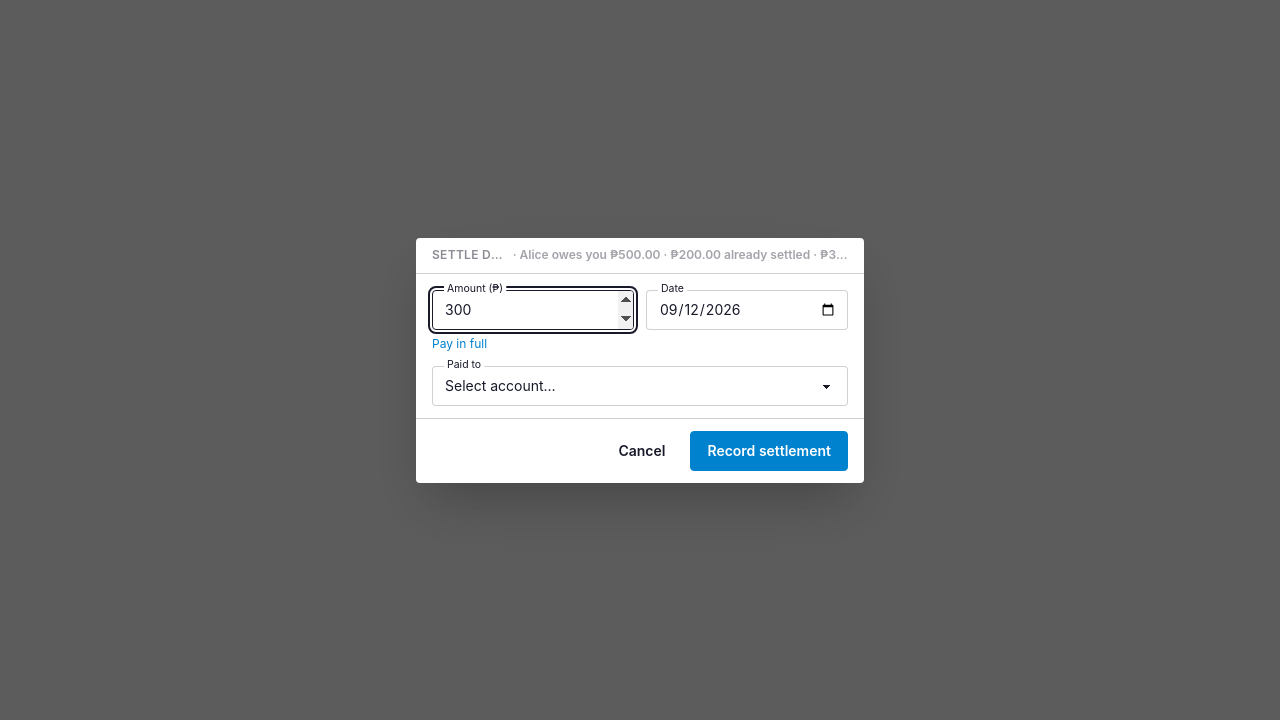
Scenario: SettleModal › 'Pay in full' fills the remaining amount
// Clear first, then click Pay in full to verify it refills.
Replace the text in the number field labelled "Amount (₱)" with "0" at (533, 310), box [432, 290, 634, 330]
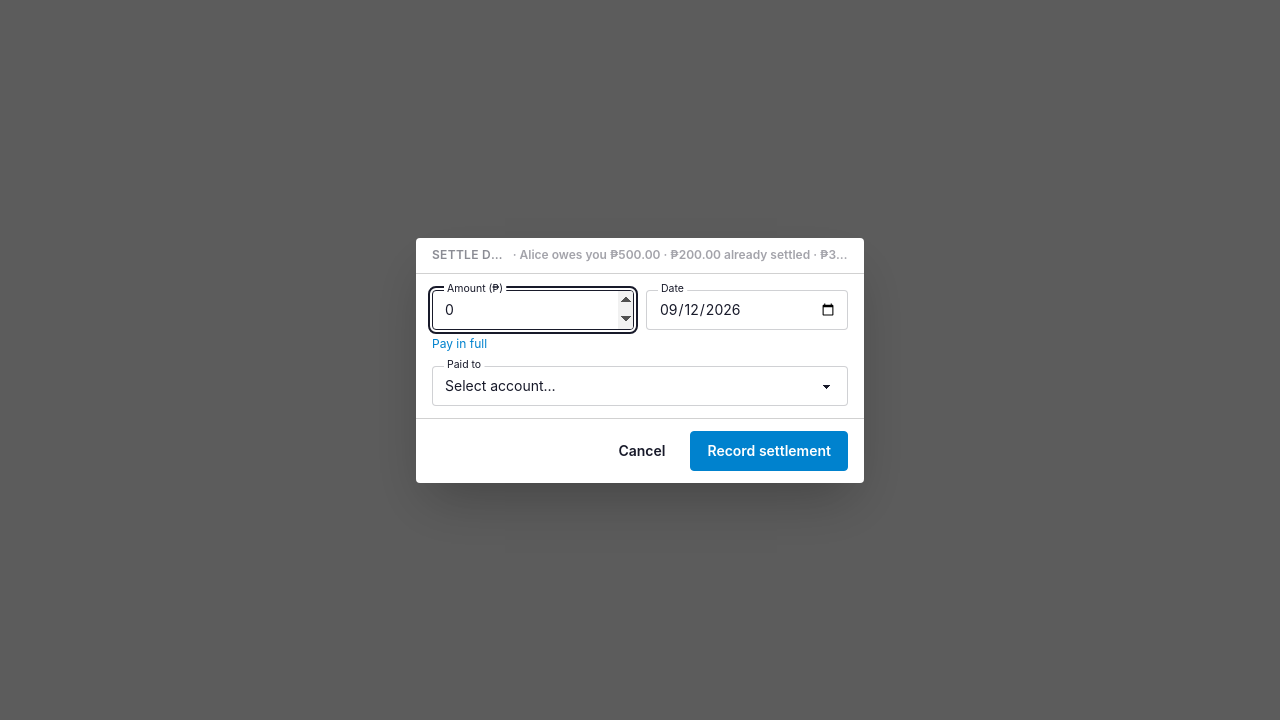
Click the button "Pay in full" at (460, 344), box [432, 336, 487, 352]
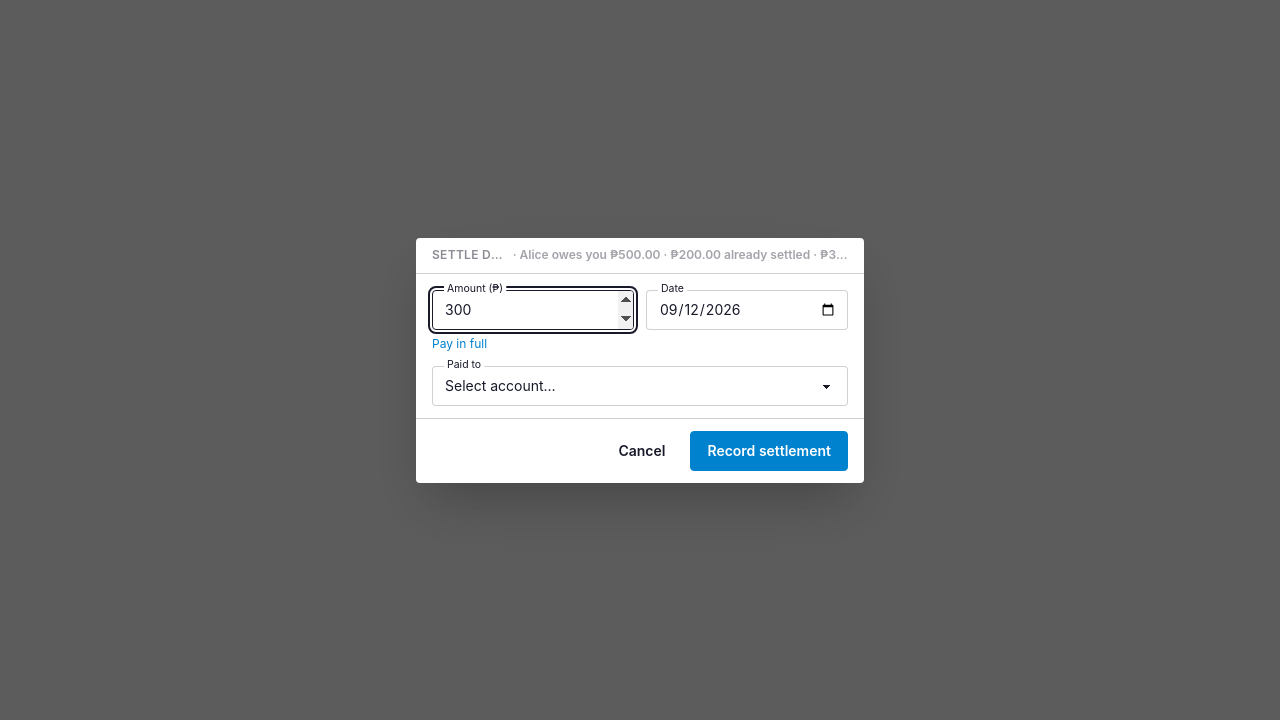
Expected: the number field labelled "Amount (₱)" holds "300", [432, 290, 634, 330]
